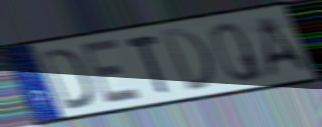A: (257, 14, 313, 80)
D: (159, 26, 218, 93), (37, 45, 95, 112)
E: (79, 36, 145, 107)
Q: (210, 21, 267, 84)
T: (123, 32, 172, 96)
